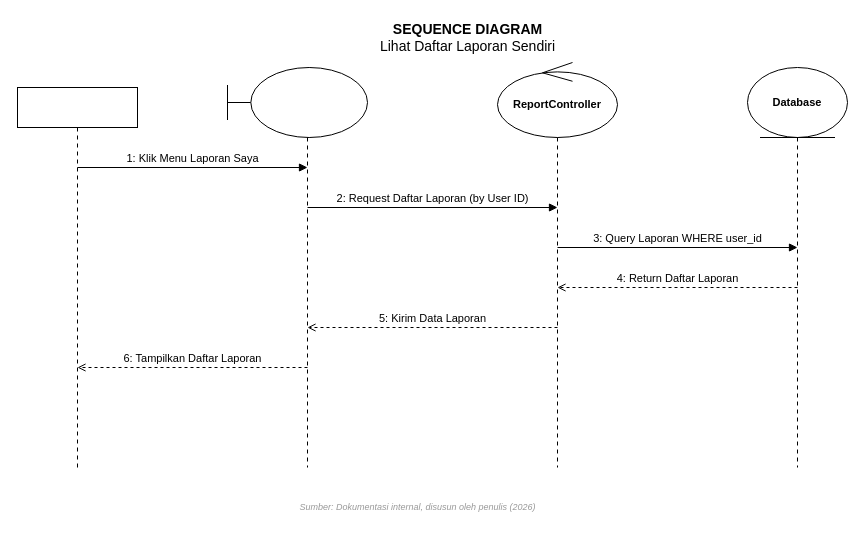
Some shapes in this 865 by 534 pixel diagram are drawn without their labels. Here are the shapes that lost their labels. From the top down, the box of each, then its label:
(16, 86, 138, 128): Teknisi
(226, 66, 368, 138): Halaman Daftar Laporan
